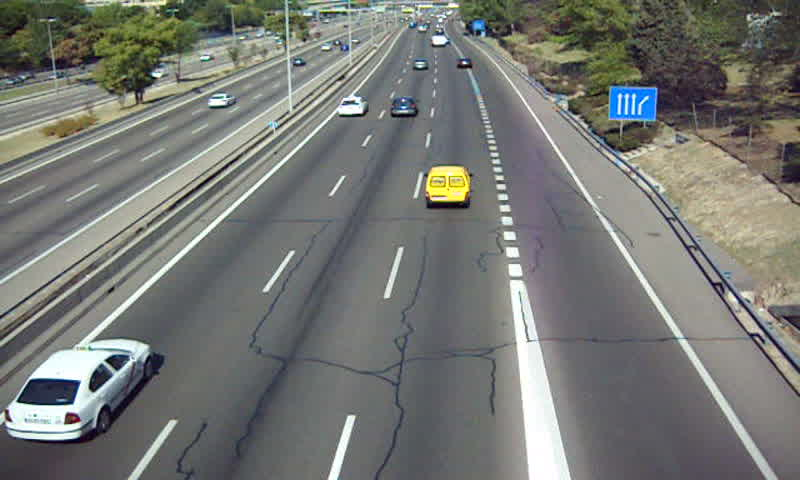car: (5, 339, 154, 441), (336, 95, 367, 116), (389, 97, 418, 119), (456, 56, 474, 70), (412, 59, 428, 73)
van: (425, 166, 472, 209)
